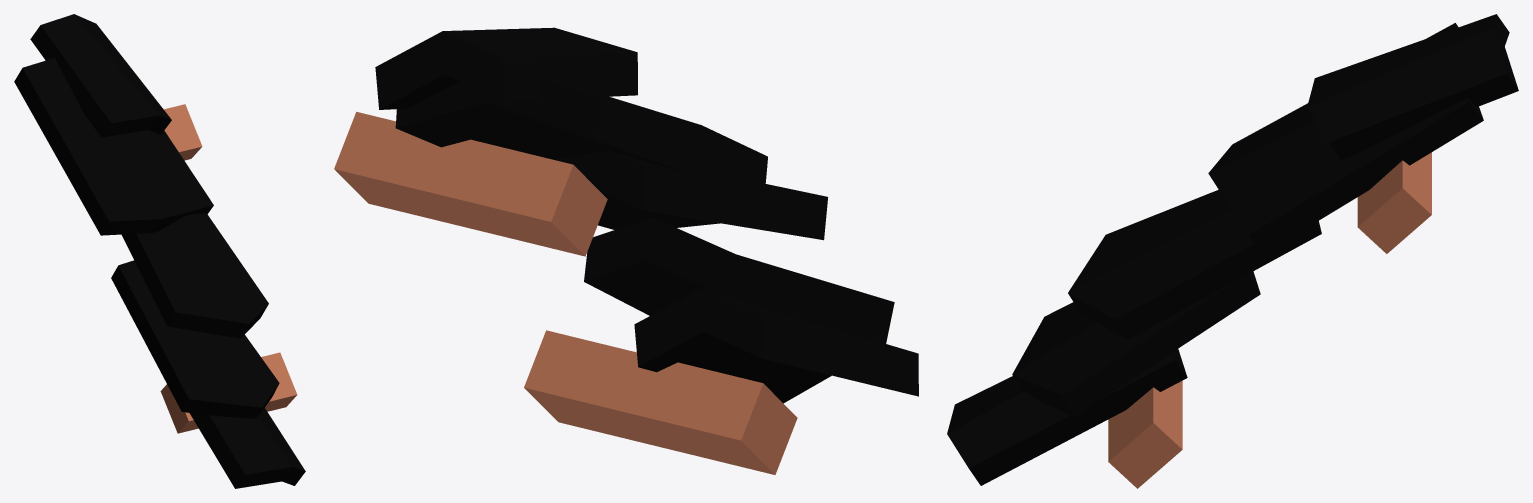
The model's file is Roof 03 Finish Side 02.fbx.
3 renders of one model, left to right at view 1: azimuth 30°, elevation 25°; view 2: azimuth 150°, elevation 25°; view 3: azimuth 270°, elevation 25°, orthographic. The views are drawn at different scales.
Visible parts, largest first — view 1: Roof 03 Finish Side 02; view 2: Roof 03 Finish Side 02; view 3: Roof 03 Finish Side 02.
Boxes of the visible parts, left/top/right/bottom form: Roof 03 Finish Side 02: left=14, top=14, right=305, bottom=488; Roof 03 Finish Side 02: left=334, top=27, right=918, bottom=474; Roof 03 Finish Side 02: left=947, top=14, right=1518, bottom=488.
Size of the model in its own units: 92.4 by 203 by 239.
